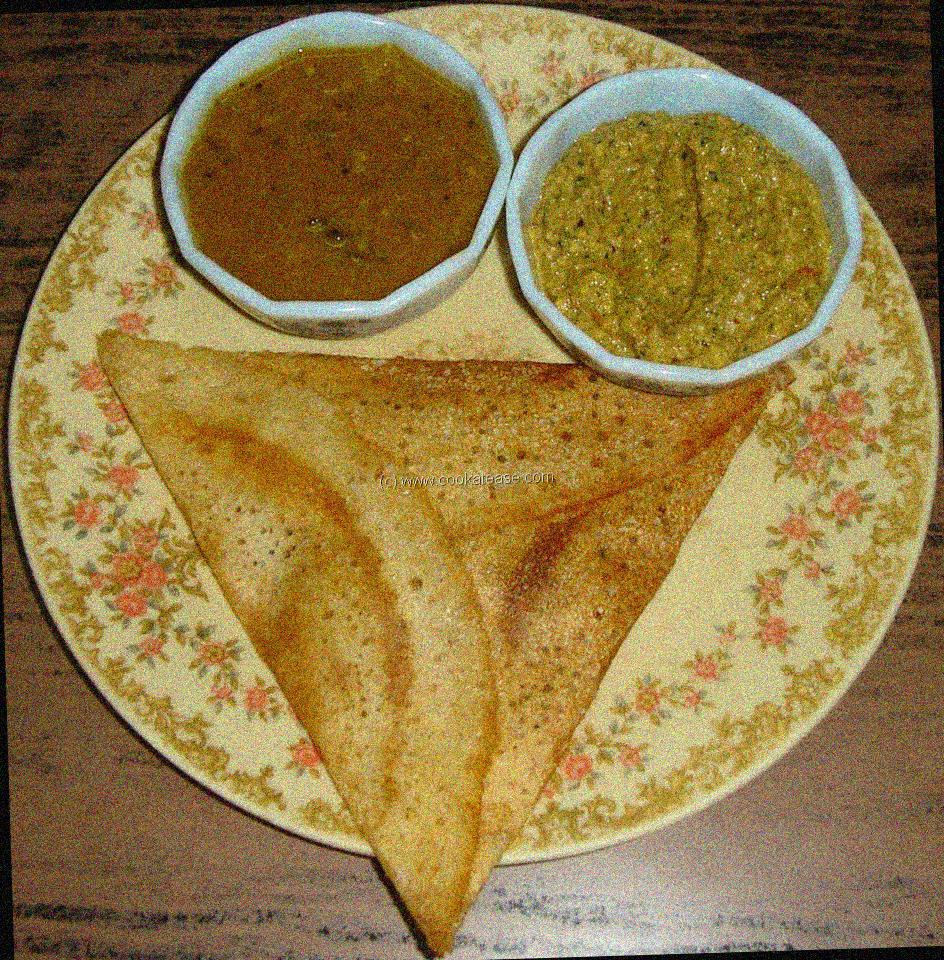dosa: (97, 332, 773, 953)
